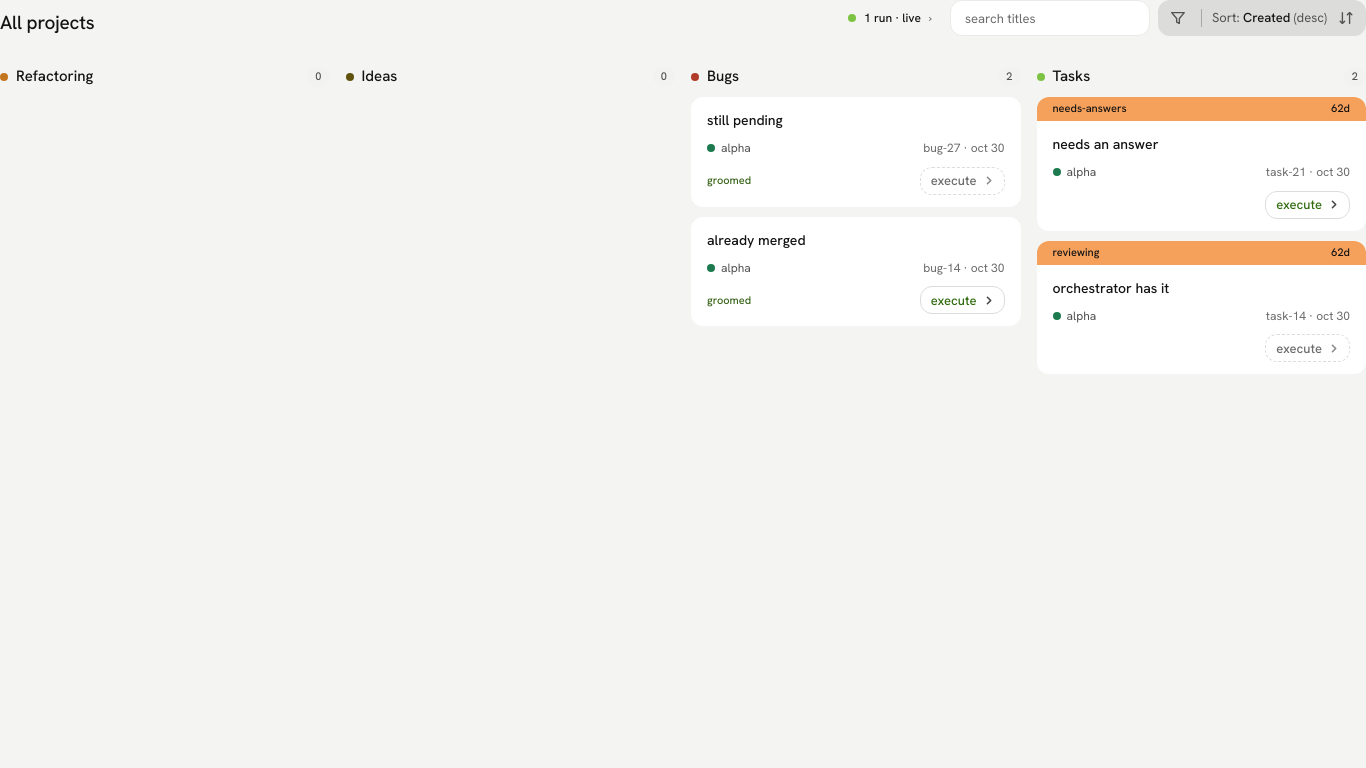
Test: BoardView: card live strips › shows orchestrated work under the In progress filter, and only that
Check: the text "Bugs" is shown, box [707,66,739,87]
Click the button named "Filters": (1178, 18) [1161,3,1195,33]
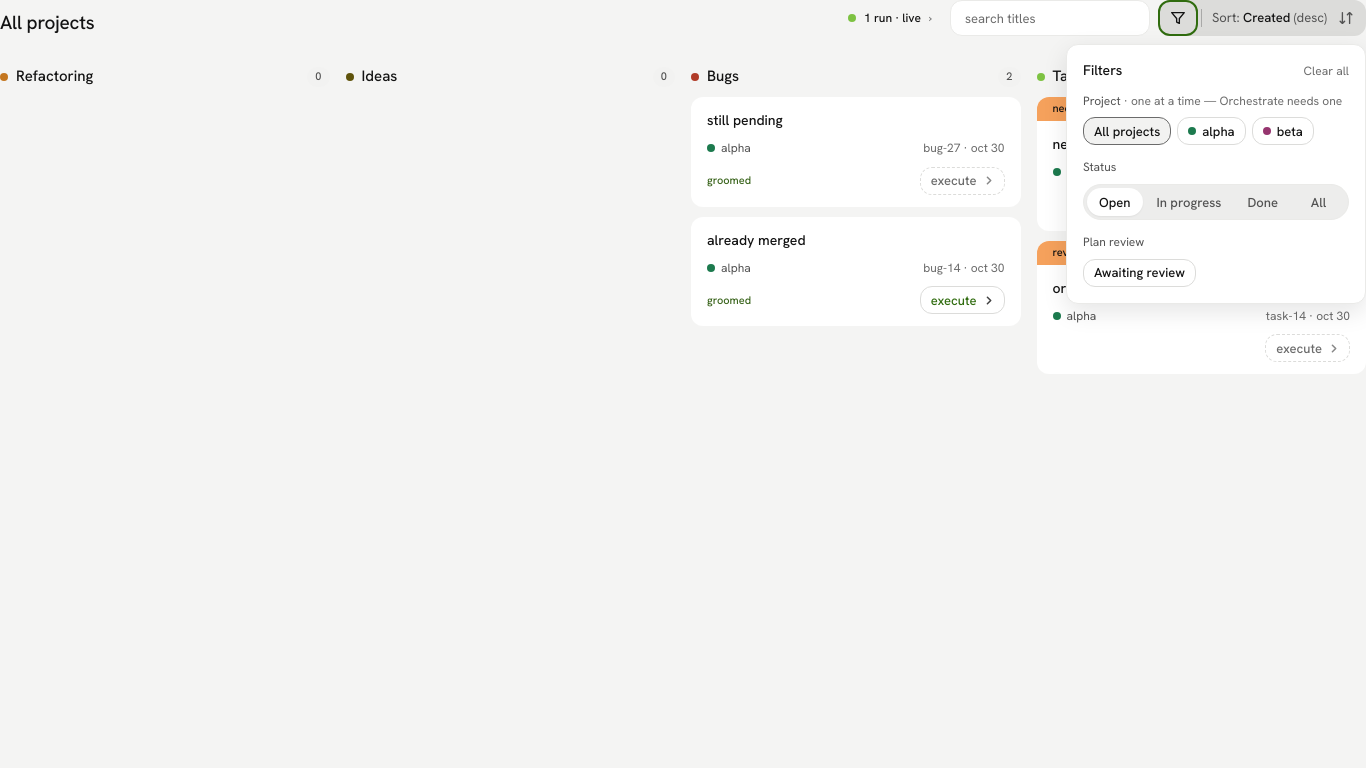
Click the button "In progress": (1189, 202) [1144,188,1233,216]
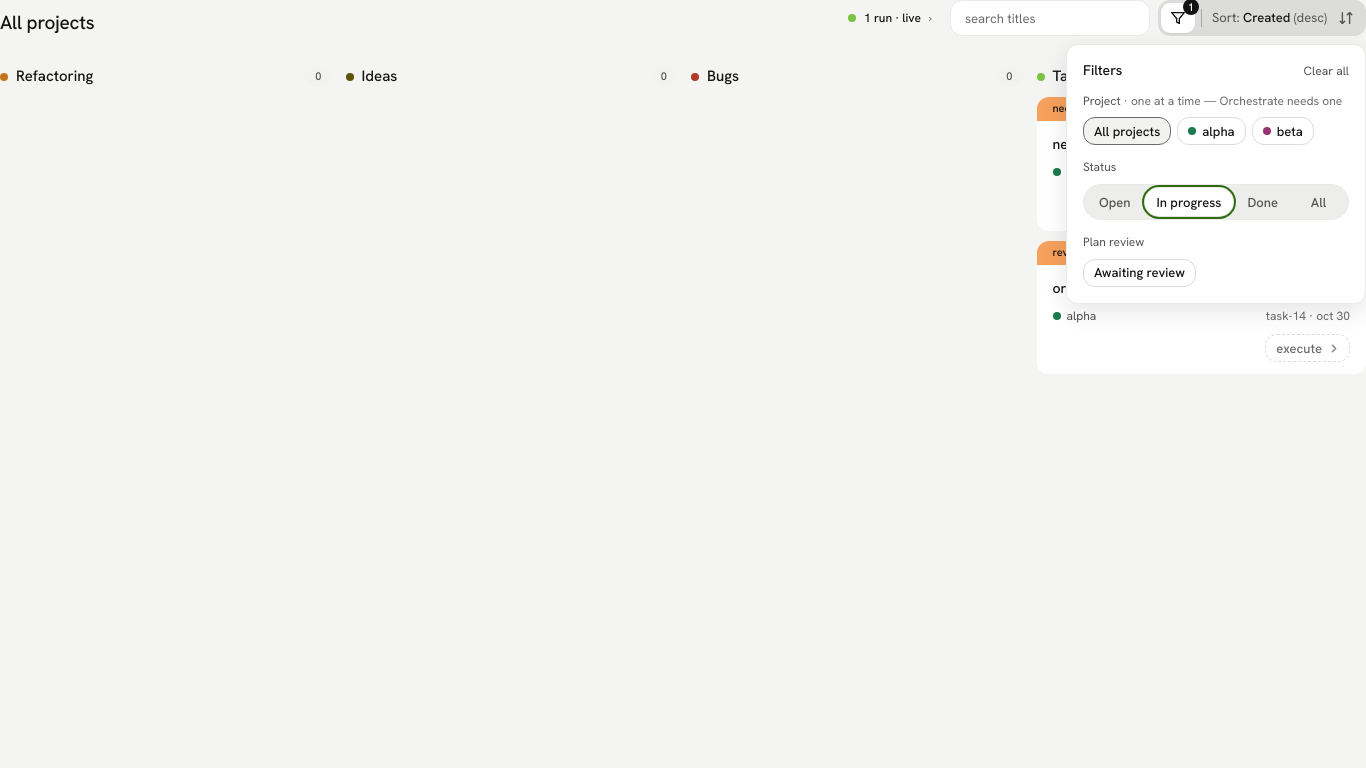
Check: the text "orchestrator has it" is shown, box [1052,279,1169,297]
Check: the button "still pending" is gone
Check: the button "already merged" is gone
